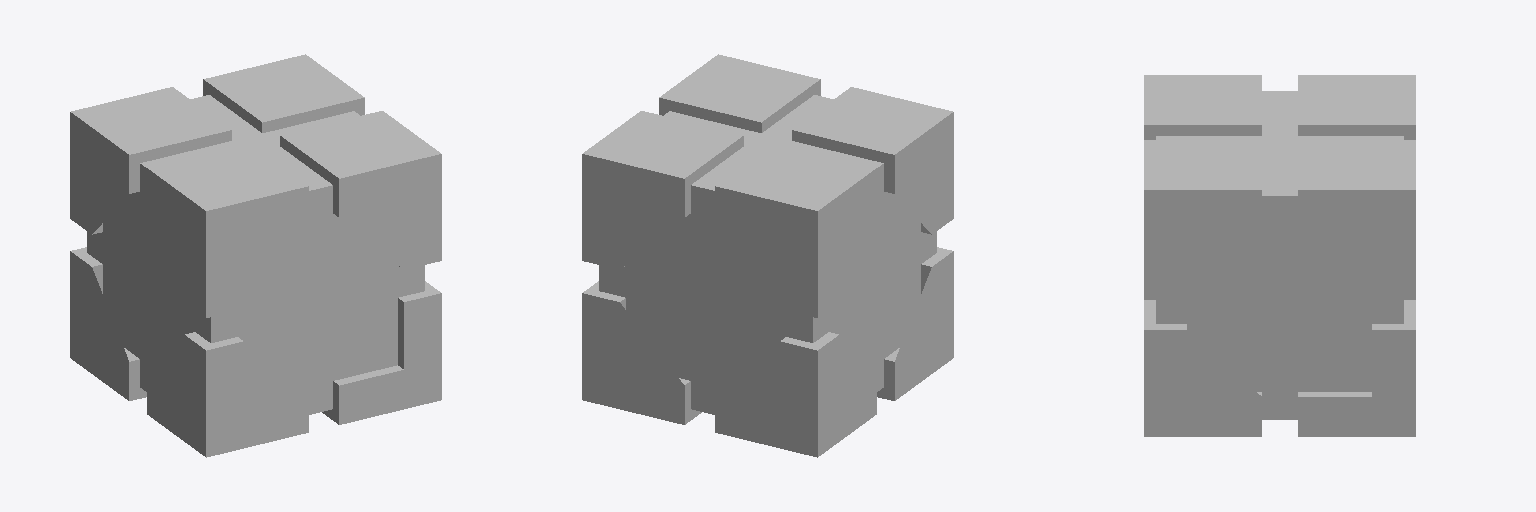
File: companion_cube_simple.obj
3 renders of one model, left to right at view 1: azimuth 30°, elevation 25°; view 2: azimuth 150°, elevation 25°; view 3: azimuth 270°, elevation 25°, orthographic.
Visible parts, largest first — view 1: Cube; view 2: Cube; view 3: Cube.
Boxes of the visible parts, <box> form: Cube: <box>70,54,441,457</box>; Cube: <box>582,54,953,457</box>; Cube: <box>1144,75,1415,436</box>.
Bounding box in the file's own units: 1 × 1 × 1.